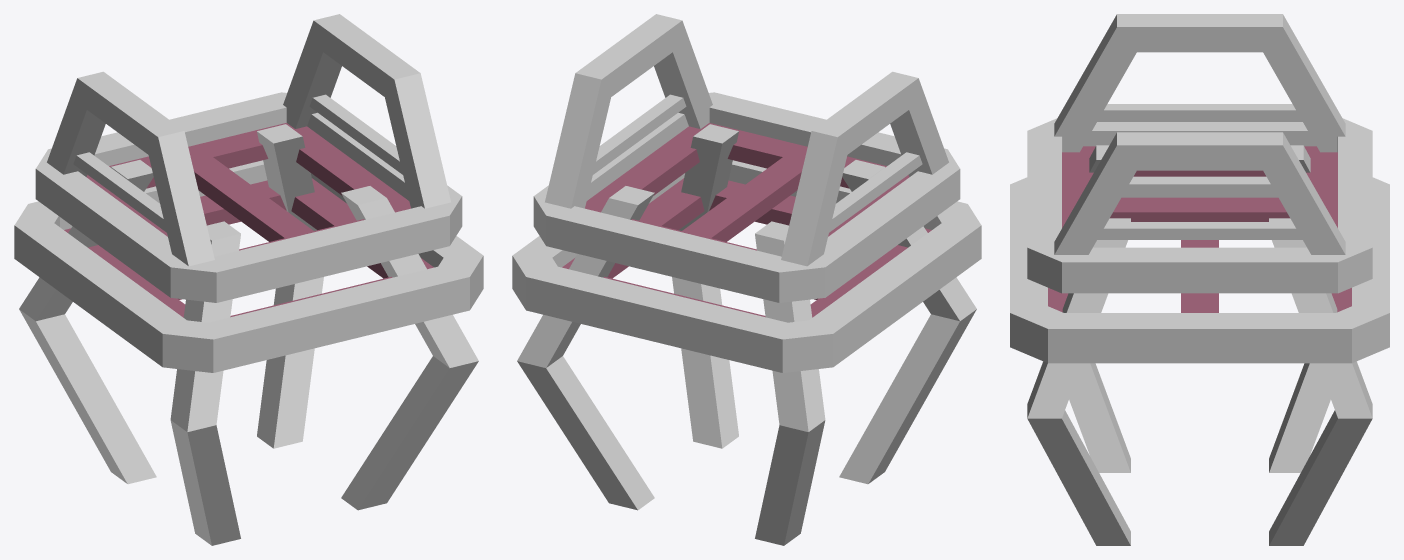
The model's file is walking_00_01.obj.
The picture shows the model from 3 angles, left to right: view 1: azimuth 30°, elevation 25°; view 2: azimuth 150°, elevation 25°; view 3: azimuth 270°, elevation 25°; orthographic projection. The views are drawn at different scales.
Visible parts, largest first — view 1: mergedBlocks; view 2: mergedBlocks; view 3: mergedBlocks.
Part boxes in pixels (left/top/right/bottom): mergedBlocks: left=14, top=14, right=483, bottom=545; mergedBlocks: left=512, top=14, right=981, bottom=545; mergedBlocks: left=1010, top=14, right=1389, bottom=545.
Size of the model in its own units: 1.1 by 1.35 by 1.1.
